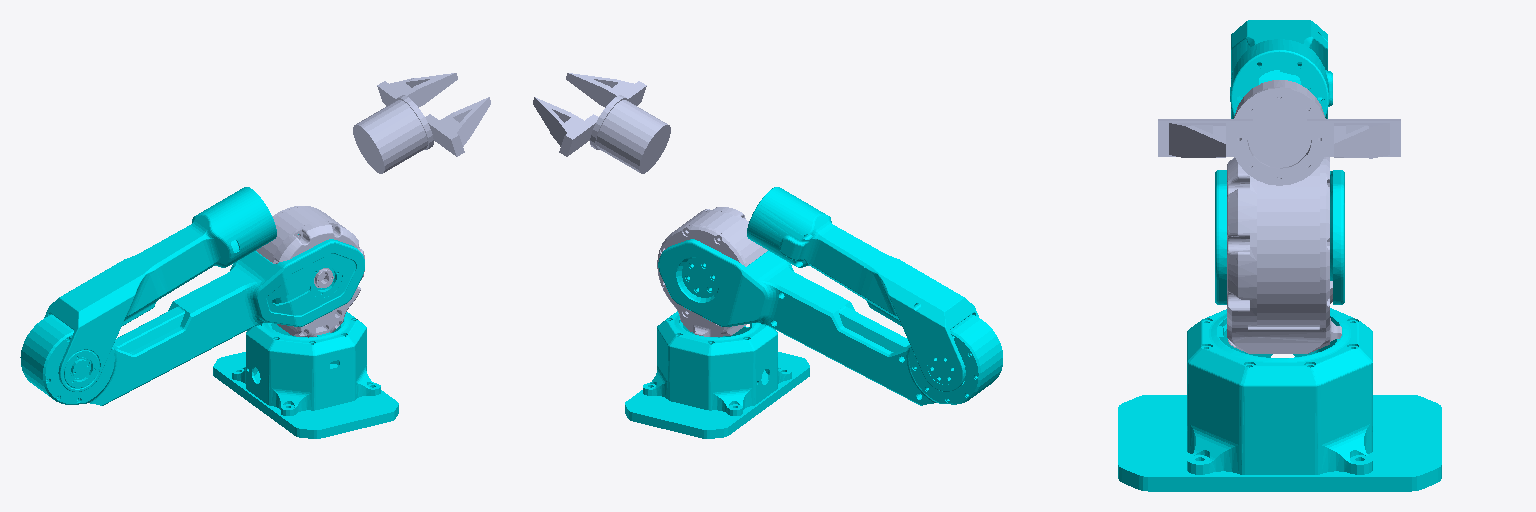
robot.urdf — arm_07_urdf:
<?xml version="1.0" encoding="utf-8"?>
<!-- This URDF was automatically created by SolidWorks to URDF Exporter! Originally created by Stephen Brawner (brawner@gmail.com) 
     Commit Version: 1.6.0-4-g7f85cfe  Build Version: 1.6.7995.38578
     For more information, please see http://wiki.ros.org/sw_urdf_exporter -->
<robot
  name="arm_07_urdf">
  <link
    name="base_link">
    <inertial>
      <origin
        xyz="9.79807349309969E-05 3.17552736894338E-06 0.0154126161882423"
        rpy="0 0 0" />
      <mass
        value="0.312449700451943" />
      <inertia
        ixx="0.000930695850162467"
        ixy="-7.67872291471216E-08"
        ixz="3.91688763405863E-07"
        iyy="0.000444895288468995"
        iyz="1.34096347341056E-07"
        izz="0.00127687976071196" />
    </inertial>
    <visual>
      <origin
        xyz="0 0 0"
        rpy="0 0 0" />
      <geometry>
        <mesh
          filename="package://arm_07_urdf/meshes/base_link.STL" />
      </geometry>
      <material
        name="">
        <color
          rgba="0 0.941176470588235 0.988235294117647 1" />
      </material>
    </visual>
    <collision>
      <origin
        xyz="0 0 0"
        rpy="0 0 0" />
      <geometry>
        <mesh
          filename="package://arm_07_urdf/meshes/base_link.STL" />
      </geometry>
    </collision>
  </link>
  <link
    name="arm_B_Link">
    <inertial>
      <origin
        xyz="0.00211375802851201 -1.46611349662278E-05 0.128545913891624"
        rpy="0 0 0" />
      <mass
        value="0.161927400239937" />
      <inertia
        ixx="0.000358887566381327"
        ixy="2.6822388652807E-08"
        ixz="-1.85398446013315E-05"
        iyy="0.000230288747292943"
        iyz="3.29798306143151E-09"
        izz="0.000176984565119134" />
    </inertial>
    <visual>
      <origin
        xyz="0 0 0"
        rpy="0 0 0" />
      <geometry>
        <mesh
          filename="package://arm_07_urdf/meshes/arm_B_Link.STL" />
      </geometry>
      <material
        name="">
        <color
          rgba="0.792156862745098 0.819607843137255 0.933333333333333 1" />
      </material>
    </visual>
    <collision>
      <origin
        xyz="0 0 0"
        rpy="0 0 0" />
      <geometry>
        <mesh
          filename="package://arm_07_urdf/meshes/arm_B_Link.STL" />
      </geometry>
    </collision>
  </link>
  <joint
    name="arm_B_joint"
    type="revolute">
    <origin
      xyz="0 0 0"
      rpy="0 0 1.5707963267949" />
    <parent
      link="base_link" />
    <child
      link="arm_B_Link" />
    <axis
      xyz="0 0 1" />
    <limit
      lower="-2.792528"
      upper="2.7928"
      effort="0"
      velocity="0" />
  </joint>
  <link
    name="arm_c_Link">
    <inertial>
      <origin
        xyz="0.0009191573539574 0.121589064514994 -0.0254313597765101"
        rpy="0 0 0" />
      <mass
        value="0.257068371325535" />
      <inertia
        ixx="0.00334031831601275"
        ixy="1.37029910970322E-05"
        ixz="-3.21872551222272E-06"
        iyy="0.000263467511957956"
        iyz="0.000513889597277906"
        izz="0.00314132138371385" />
    </inertial>
    <visual>
      <origin
        xyz="0 0 0"
        rpy="0 0 0" />
      <geometry>
        <mesh
          filename="package://arm_07_urdf/meshes/arm_c_Link.STL" />
      </geometry>
      <material
        name="">
        <color
          rgba="0 0.941176470588235 0.988235294117647 1" />
      </material>
    </visual>
    <collision>
      <origin
        xyz="0 0 0"
        rpy="0 0 0" />
      <geometry>
        <mesh
          filename="package://arm_07_urdf/meshes/arm_c_Link.STL" />
      </geometry>
    </collision>
  </link>
  <joint
    name="arm_c_joint"
    type="revolute">
    <origin
      xyz="0 0 0.143265371804359"
      rpy="0 0 0" />
    <parent
      link="arm_B_Link" />
    <child
      link="arm_c_Link" />
    <axis
      xyz="1 0 0" />
    <limit
      lower="0"
      upper="3.665193"
      effort="0"
      velocity="0" />
  </joint>
  <link
    name="arm_d_Link">
    <inertial>
      <origin
        xyz="0.00105930272863335 -0.0921421503703848 0.0614993051227474"
        rpy="0 0 0" />
      <mass
        value="0.131982022478848" />
      <inertia
        ixx="0.000934143197413629"
        ixy="-3.66276598129619E-06"
        ixz="2.55399404517292E-06"
        iyy="0.000181449410808082"
        iyz="0.000298251790948272"
        izz="0.00077306684761962" />
    </inertial>
    <visual>
      <origin
        xyz="0 0 0"
        rpy="0 0 0" />
      <geometry>
        <mesh
          filename="package://arm_07_urdf/meshes/arm_d_Link.STL" />
      </geometry>
      <material
        name="">
        <color
          rgba="0 0.941176470588235 0.988235294117647 1" />
      </material>
    </visual>
    <collision>
      <origin
        xyz="0 0 0"
        rpy="0 0 0" />
      <geometry>
        <mesh
          filename="package://arm_07_urdf/meshes/arm_d_Link.STL" />
      </geometry>
    </collision>
  </link>
  <joint
    name="arm_d_joint"
    type="revolute">
    <origin
      xyz="0 0.27951789793953 -0.0386619287085886"
      rpy="0 0 0" />
    <parent
      link="arm_c_Link" />
    <child
      link="arm_d_Link" />
    <axis
      xyz="1 0 0" />
    <limit
      lower="-3.0717808"
      upper="0"
      effort="0"
      velocity="0" />
  </joint>
  <link
    name="arm_e_Link">
    <inertial>
      <origin
        xyz="-0.00248300427056015 -0.0243008893592645 0.00812623111704036"
        rpy="0 0 0" />
      <mass
        value="0.0744667414885224" />
      <inertia
        ixx="3.2782750199348E-05"
        ixy="-1.19160537884968E-07"
        ixz="1.37153164466685E-07"
        iyy="2.41495498456555E-05"
        iyz="-1.56987083759171E-06"
        izz="1.98270124929055E-05" />
    </inertial>
    <visual>
      <origin
        xyz="0 0 0"
        rpy="0 0 0" />
      <geometry>
        <mesh
          filename="package://arm_07_urdf/meshes/arm_e_Link.STL" />
      </geometry>
      <material
        name="">
        <color
          rgba="0.298039215686275 0.298039215686275 0.298039215686275 1" />
      </material>
    </visual>
    <collision>
      <origin
        xyz="0 0 0"
        rpy="0 0 0" />
      <geometry>
        <mesh
          filename="package://arm_07_urdf/meshes/arm_e_Link.STL" />
      </geometry>
    </collision>
  </link>
  <joint
    name="arm_e_joint"
    type="revolute">
    <origin
      xyz="-0.000200000000001055 -0.225997477754371 0.110232209669692"
      rpy="0 0 0" />
    <parent
      link="arm_d_Link" />
    <child
      link="arm_e_Link" />
    <axis
      xyz="0 -0.951056516295154 0.309016994374946" />
    <limit
      lower="-2.618"
      upper="2.618"
      effort="0"
      velocity="0" />
  </joint>
  <link
    name="arm_f_Link">
    <inertial>
      <origin
        xyz="0.00541769042656354 -0.0494689878592178 0.0158660314076358"
        rpy="0 0 0" />
      <mass
        value="0.0818556966681358" />
      <inertia
        ixx="2.68719350250462E-05"
        ixy="-4.66421828801022E-07"
        ixz="1.80944351018695E-07"
        iyy="3.439330933507E-05"
        iyz="-3.80420131854268E-06"
        izz="2.36039237600477E-05" />
    </inertial>
    <visual>
      <origin
        xyz="0 0 0"
        rpy="0 0 0" />
      <geometry>
        <mesh
          filename="package://arm_07_urdf/meshes/arm_f_Link.STL" />
      </geometry>
      <material
        name="">
        <color
          rgba="0.298039215686275 0.298039215686275 0.298039215686275 1" />
      </material>
    </visual>
    <collision>
      <origin
        xyz="0 0 0"
        rpy="0 0 0" />
      <geometry>
        <mesh
          filename="package://arm_07_urdf/meshes/arm_f_Link.STL" />
      </geometry>
    </collision>
  </link>
  <joint
    name="arm_f_joint"
    type="revolute">
    <origin
      xyz="0 -0.034238034586623 0.0111246117974971"
      rpy="0 0 0" />
    <parent
      link="arm_e_Link" />
    <child
      link="arm_f_Link" />
    <axis
      xyz="1 0 0" />
    <limit
      lower="-1.5708"
      upper="1.5708"
      effort="0"
      velocity="0" />
  </joint>
  <link
    name="arm_g_Link">
    <inertial>
      <origin
        xyz="1.87214540411213E-06 -0.146862092049971 0.0477183863370055"
        rpy="0 0 0" />
      <mass
        value="0.201928885842249" />
      <inertia
        ixx="0.000178867317174843"
        ixy="1.69183049816098E-08"
        ixz="-5.49709051536351E-09"
        iyy="0.000202826883908908"
        iyz="3.33342629014081E-05"
        izz="0.000294588237488371" />
    </inertial>
    <visual>
      <origin
        xyz="0 0 0"
        rpy="0 0 0" />
      <geometry>
        <mesh
          filename="package://arm_07_urdf/meshes/arm_g_Link.STL" />
      </geometry>
      <material
        name="">
        <color
          rgba="0.792156862745098 0.819607843137255 0.933333333333333 1" />
      </material>
    </visual>
    <collision>
      <origin
        xyz="0 0 0"
        rpy="0 0 0" />
      <geometry>
        <mesh
          filename="package://arm_07_urdf/meshes/arm_g_Link.STL" />
      </geometry>
    </collision>
  </link>
  <joint
    name="arm_g_joint"
    type="revolute">
    <origin
      xyz="0 0.0147562073660819 -0.00479458241493827"
      rpy="0 0 0" />
    <parent
      link="arm_f_Link" />
    <child
      link="arm_g_Link" />
    <axis
      xyz="0 -0.951056516295154 0.309016994374945" />
    <limit
      lower="-1.570797"
      upper="1.570797"
      effort="0"
      velocity="0" />
  </joint>
</robot>

--- Render facts (derived) ---
The picture shows the robot from 3 angles, left to right: view 1: azimuth 30°, elevation 25°; view 2: azimuth 150°, elevation 25°; view 3: azimuth 270°, elevation 25°; orthographic projection.
Robot: arm_07_urdf — 7 links, 6 joints (6 revolute); root link base_link; default pose: all joints at 0.
Visible links, largest first — view 1: arm_c_Link, arm_d_Link, base_link, arm_g_Link, arm_B_Link; view 2: arm_c_Link, arm_d_Link, base_link, arm_g_Link, arm_B_Link; view 3: base_link, arm_B_Link, arm_g_Link, arm_d_Link, arm_c_Link.
Boxes of the visible links, x1=… form: arm_c_Link: x1=20, y1=234, x2=364, y2=405; arm_d_Link: x1=44, y1=187, x2=276, y2=391; base_link: x1=213, y1=312, x2=398, y2=438; arm_g_Link: x1=353, y1=73, x2=490, y2=173; arm_B_Link: x1=256, y1=206, x2=364, y2=337; arm_c_Link: x1=658, y1=239, x2=1002, y2=405; arm_d_Link: x1=747, y1=187, x2=978, y2=391; base_link: x1=625, y1=311, x2=809, y2=438; arm_g_Link: x1=533, y1=73, x2=670, y2=173; arm_B_Link: x1=657, y1=207, x2=767, y2=336; base_link: x1=1118, y1=308, x2=1441, y2=491; arm_B_Link: x1=1227, y1=157, x2=1341, y2=353; arm_g_Link: x1=1158, y1=80, x2=1400, y2=185; arm_d_Link: x1=1230, y1=20, x2=1332, y2=118; arm_c_Link: x1=1215, y1=170, x2=1344, y2=304.
Size in the robot's own frame: 0.5179 by 0.2 by 0.3032 metres.
Meshes: 7 distinct files referenced, 5 mesh visuals loaded (5 binary STL); not drawn: 2 (reference not matched to a file when rendering).
